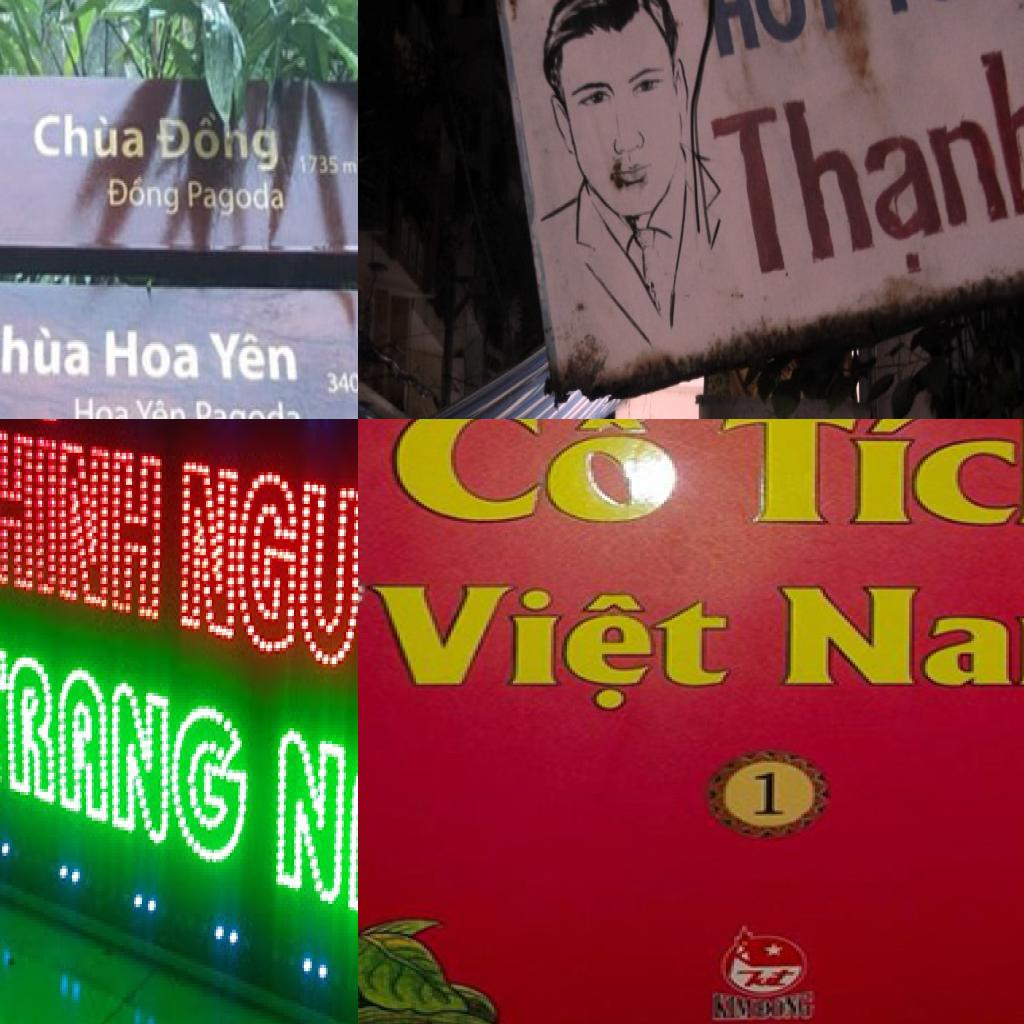text: (708, 36, 1024, 318), (0, 632, 252, 881), (168, 419, 358, 724), (358, 578, 736, 713), (707, 419, 1024, 536), (0, 419, 168, 625), (378, 419, 682, 528), (769, 589, 1024, 696), (695, 0, 855, 63), (154, 108, 282, 181), (28, 110, 147, 163), (0, 316, 89, 381), (101, 328, 200, 384), (207, 330, 301, 388), (193, 395, 305, 419), (294, 149, 358, 182), (71, 391, 131, 419), (132, 395, 189, 419), (322, 367, 358, 397), (735, 402, 784, 419)
